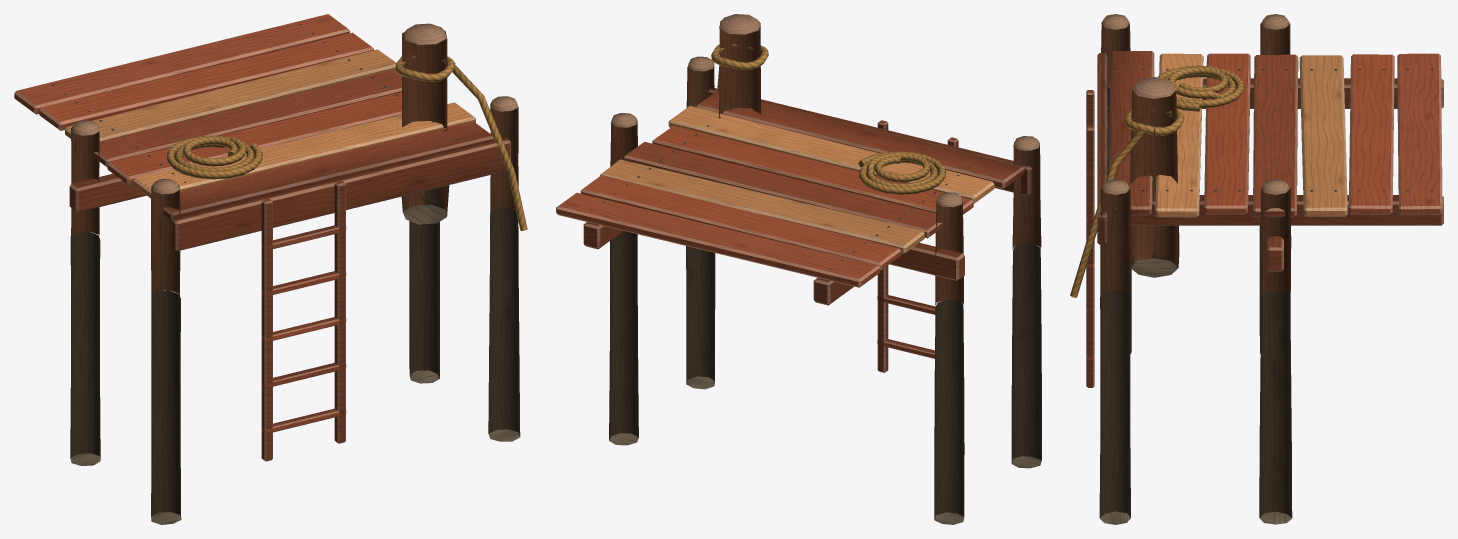
File: jetty_end.glb
The picture shows the model from 3 angles, left to right: view 1: azimuth 30°, elevation 25°; view 2: azimuth 150°, elevation 25°; view 3: azimuth 270°, elevation 25°; orthographic projection. The views are drawn at different scales.
Parts seen in each view (by area): view 1: jetty; view 2: jetty; view 3: jetty.
Boxes of the visible parts, x1,y1,x2,y2 form: jetty: (14,14,527,524); jetty: (556,14,1041,524); jetty: (1070,14,1443,524).
Size of the model in its own units: 2.51 by 2.66 by 2.22.
2 materials, 2 textured.
